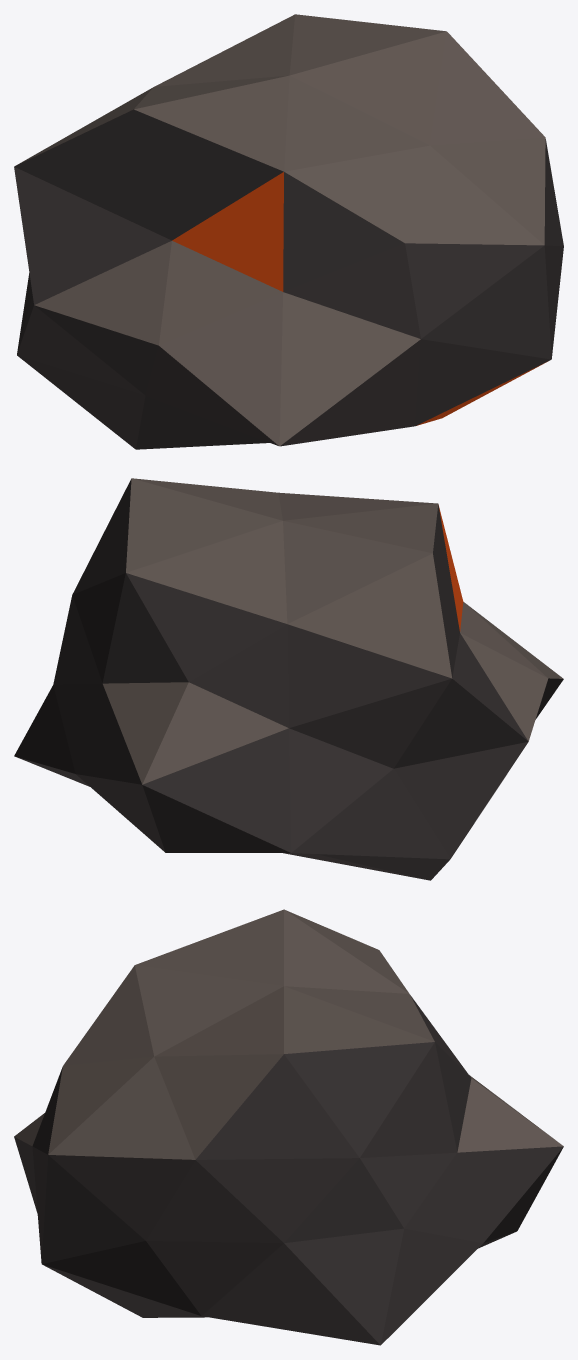
File: roca.obj
3 views of the same model, one above another, from view 1: azimuth 30°, elevation 25°; view 2: azimuth 150°, elevation 25°; view 3: azimuth 270°, elevation 25° (orthographic). The views are drawn at different scales.
Parts seen in each view (by area): view 1: roca; view 2: roca; view 3: roca.
Part boxes in pixels (x1,y1,x2,y2): roca: (14, 14, 563, 449); roca: (14, 478, 563, 880); roca: (14, 909, 563, 1345).
Bounding box in the file's own units: 0.6341 × 0.4394 × 0.6513.
